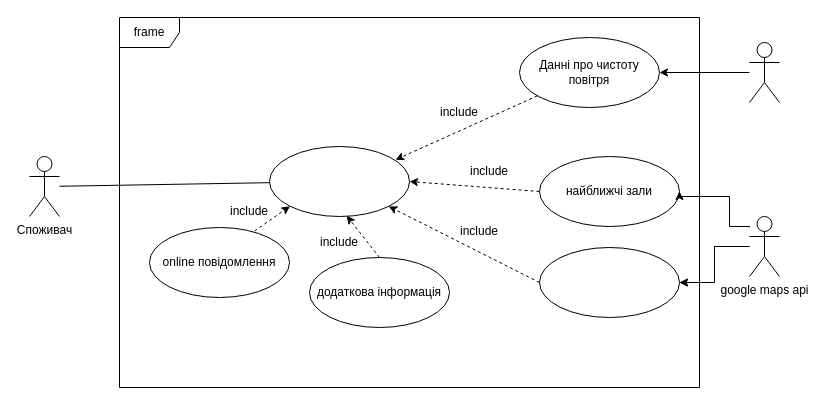
This 827x405 diagram has some shape labels left out. The centre of each missing label's shape, as x and y in pixels:
"найближчі бібліотеки" goes at pixel 609 282.
"написати своє росташування" goes at pixel 339 181.
"Сервіс магазину" goes at pixel 764 72.
